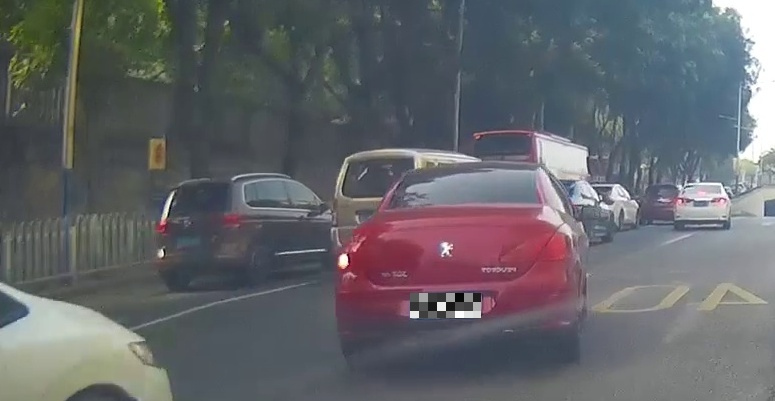L_light: (156, 220, 174, 237), (337, 252, 351, 271), (675, 197, 688, 204)
R_light: (527, 231, 565, 262), (223, 213, 245, 228), (713, 198, 726, 205)
T_light: (467, 165, 492, 169), (199, 183, 213, 186), (698, 192, 706, 195)
day-brake: (673, 182, 730, 230)
day-left: (335, 161, 579, 375)
day-no: (156, 175, 247, 293)
plate_1: (410, 293, 481, 318)
